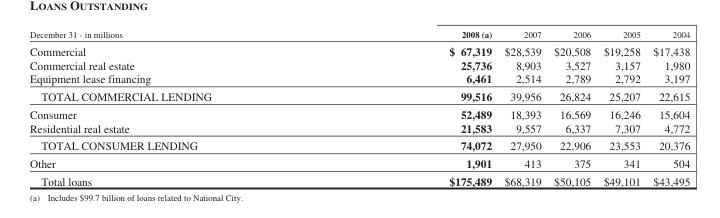table: (29, 28, 689, 187)
table column: (29, 28, 329, 187), (329, 28, 497, 187), (497, 28, 547, 187), (596, 28, 646, 187), (547, 28, 596, 187), (646, 28, 689, 187)
table column header: (29, 28, 689, 41)
table row: (29, 136, 689, 154), (29, 87, 689, 104), (29, 154, 689, 171), (29, 41, 689, 57), (29, 71, 689, 87), (29, 104, 689, 120), (29, 120, 689, 136), (29, 171, 689, 187), (29, 57, 689, 71), (29, 28, 689, 41)
